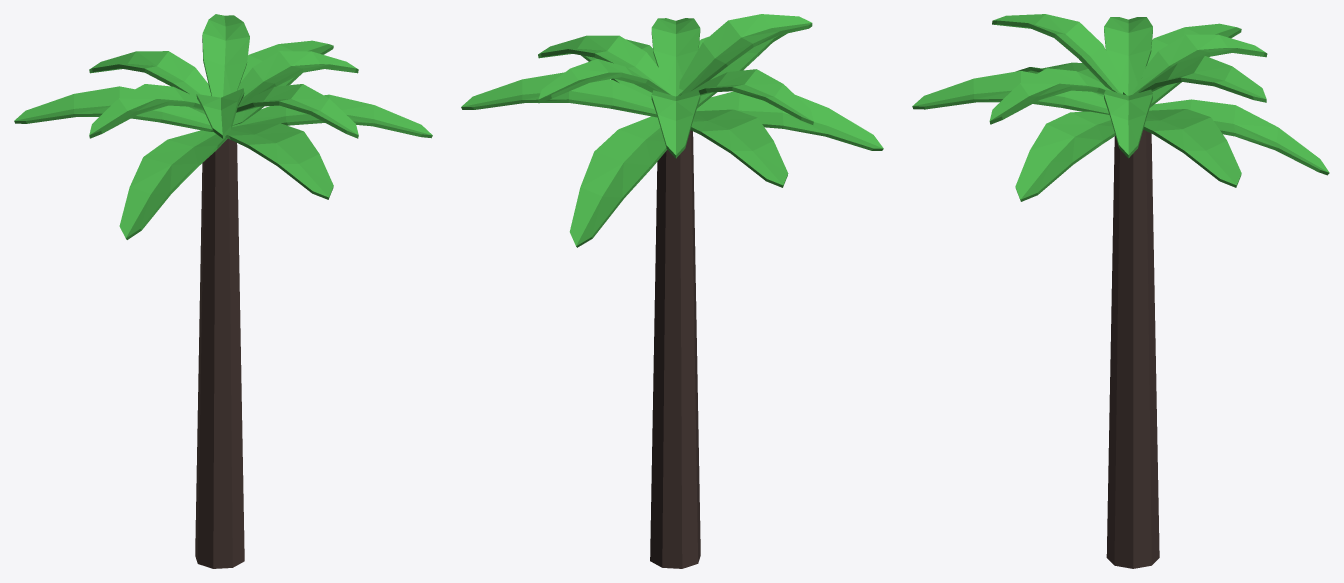
File: wujian06.FBX
The picture shows the model from 3 angles, left to right: view 1: azimuth 30°, elevation 25°; view 2: azimuth 150°, elevation 25°; view 3: azimuth 270°, elevation 25°; orthographic projection. The views are drawn at different scales.
Parts seen in each view (by area): view 1: wujian06; view 2: wujian06; view 3: wujian06.
Part boxes in pixels (<box>): wujian06: <box>14,14,432,568</box>; wujian06: <box>461,14,883,568</box>; wujian06: <box>912,14,1329,568</box>.
Size of the model in its own units: 389 by 593 by 433.
